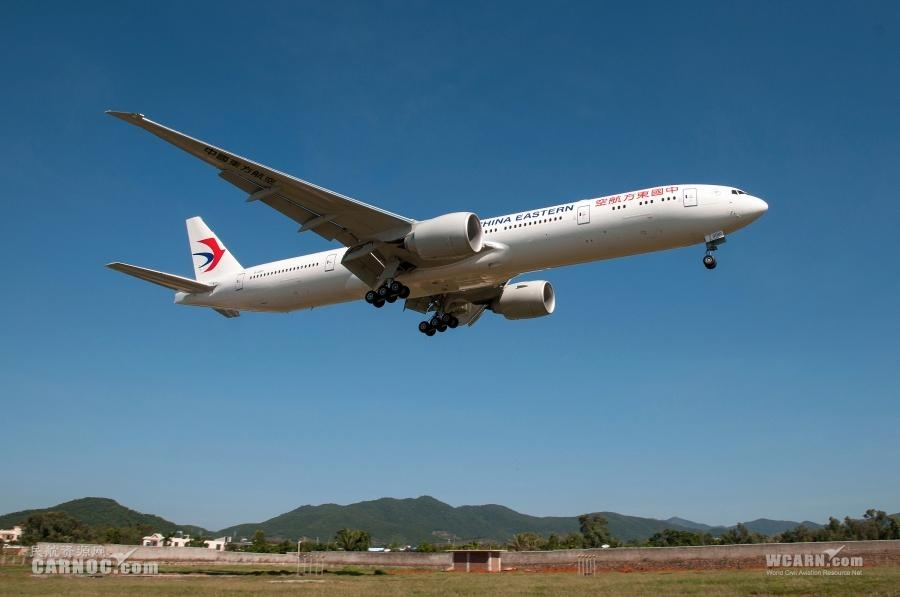airplane: (94, 106, 773, 331)
